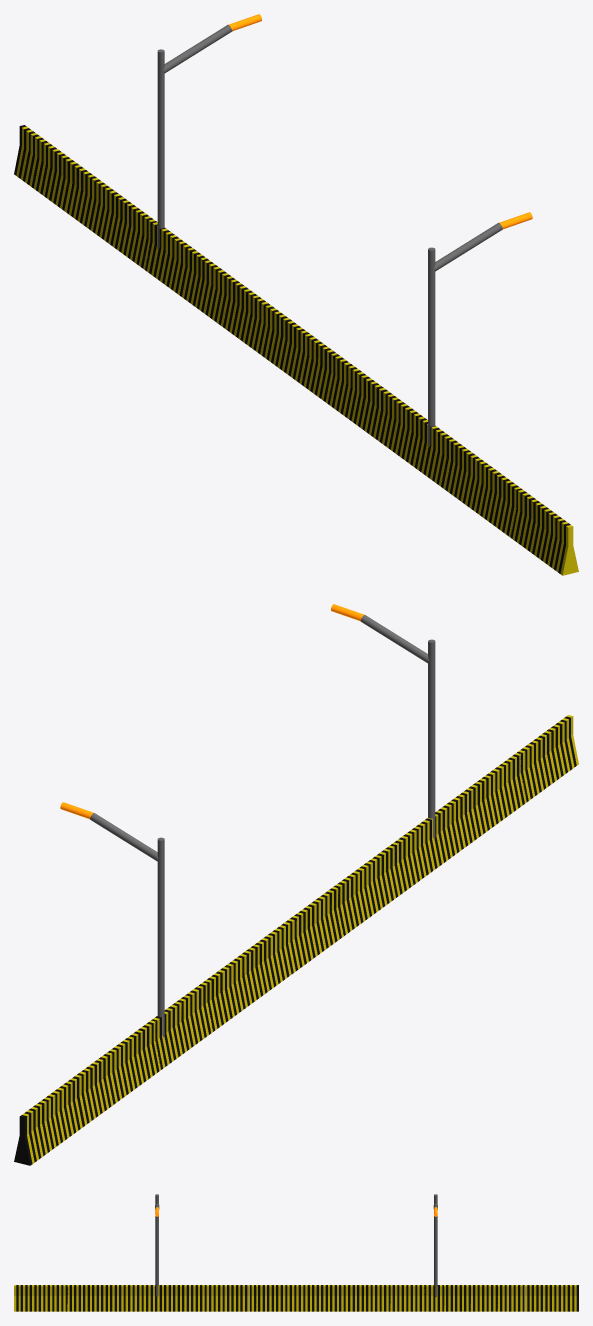
The model's file is side barricades bridge.fbx.
3 views of the same model, one above another, from view 1: azimuth 30°, elevation 25°; view 2: azimuth 150°, elevation 25°; view 3: azimuth 270°, elevation 25° (orthographic). The views are drawn at different scales.
Parts seen in each view (by area): view 1: barricade sidewise.019, barricade sidewise.017, barricade sidewise, barricade sidewise.016, barricade sidewise.010, barricade sidewise.002, barricade sidewise.007, barricade sidewise.014, barricade sidewise.003, barricade sidewise.001, barricade sidewise.012, barricade sidewise.018 (+11 smaller); view 2: barricade sidewise.018, barricade sidewise.016, barricade sidewise.009, barricade sidewise.014, barricade sidewise.015, barricade sidewise.002, barricade sidewise.019, barricade sidewise.007, barricade sidewise.001, barricade sidewise.010, barricade sidewise.011, barricade sidewise.004 (+11 smaller); view 3: barricade sidewise.004, barricade sidewise.009, barricade sidewise.010, barricade sidewise.014, barricade sidewise.015, barricade sidewise.011, barricade sidewise.013, barricade sidewise.007, barricade sidewise.016, barricade sidewise.008, barricade sidewise.003, barricade sidewise (+11 smaller).
Boxes of the visible parts, bbox=[...] form: barricade sidewise.019: bbox=[536, 507, 578, 575]; barricade sidewise.017: bbox=[40, 144, 76, 212]; barricade sidewise: bbox=[275, 316, 311, 384]; barricade sidewise.016: bbox=[66, 163, 102, 231]; barricade sidewise.010: bbox=[353, 373, 389, 441]; barricade sidewise.002: bbox=[223, 278, 259, 345]; barricade sidewise.007: bbox=[93, 182, 129, 250]; barricade sidewise.014: bbox=[458, 450, 494, 518]; barricade sidewise.003: bbox=[197, 258, 232, 326]; barricade sidewise.001: bbox=[249, 297, 285, 364]; barricade sidewise.012: bbox=[301, 335, 337, 403]; barricade sidewise.018: bbox=[14, 125, 50, 192]; barricade sidewise.018: bbox=[14, 1097, 56, 1165]; barricade sidewise.016: bbox=[72, 1059, 108, 1126]; barricade sidewise.009: bbox=[385, 829, 422, 897]; barricade sidewise.014: bbox=[464, 772, 500, 840]; barricade sidewise.015: bbox=[438, 791, 474, 859]; barricade sidewise.002: bbox=[229, 944, 265, 1012]; barricade sidewise.019: bbox=[542, 715, 578, 782]; barricade sidewise.007: bbox=[99, 1039, 135, 1107]; barricade sidewise.001: bbox=[255, 925, 291, 993]; barricade sidewise.010: bbox=[359, 849, 395, 916]; barricade sidewise.011: bbox=[333, 868, 369, 935]; barricade sidewise.004: bbox=[177, 982, 213, 1050]; barricade sidewise.004: bbox=[390, 1285, 417, 1311]; barricade sidewise.009: bbox=[175, 1285, 202, 1311]; barricade sidewise.010: bbox=[202, 1285, 229, 1311]; barricade sidewise.014: bbox=[94, 1285, 121, 1311]; barricade sidewise.015: bbox=[121, 1285, 148, 1311]; barricade sidewise.011: bbox=[229, 1285, 256, 1311]; barricade sidewise.013: bbox=[67, 1285, 94, 1311]; barricade sidewise.007: bbox=[470, 1285, 497, 1311]; barricade sidewise.016: bbox=[497, 1285, 524, 1311]; barricade sidewise.008: bbox=[148, 1285, 175, 1311]; barricade sidewise.003: bbox=[363, 1285, 390, 1311]; barricade sidewise: bbox=[283, 1285, 309, 1311].
Size of the model in its own units: 799 by 1674 by 7066.
